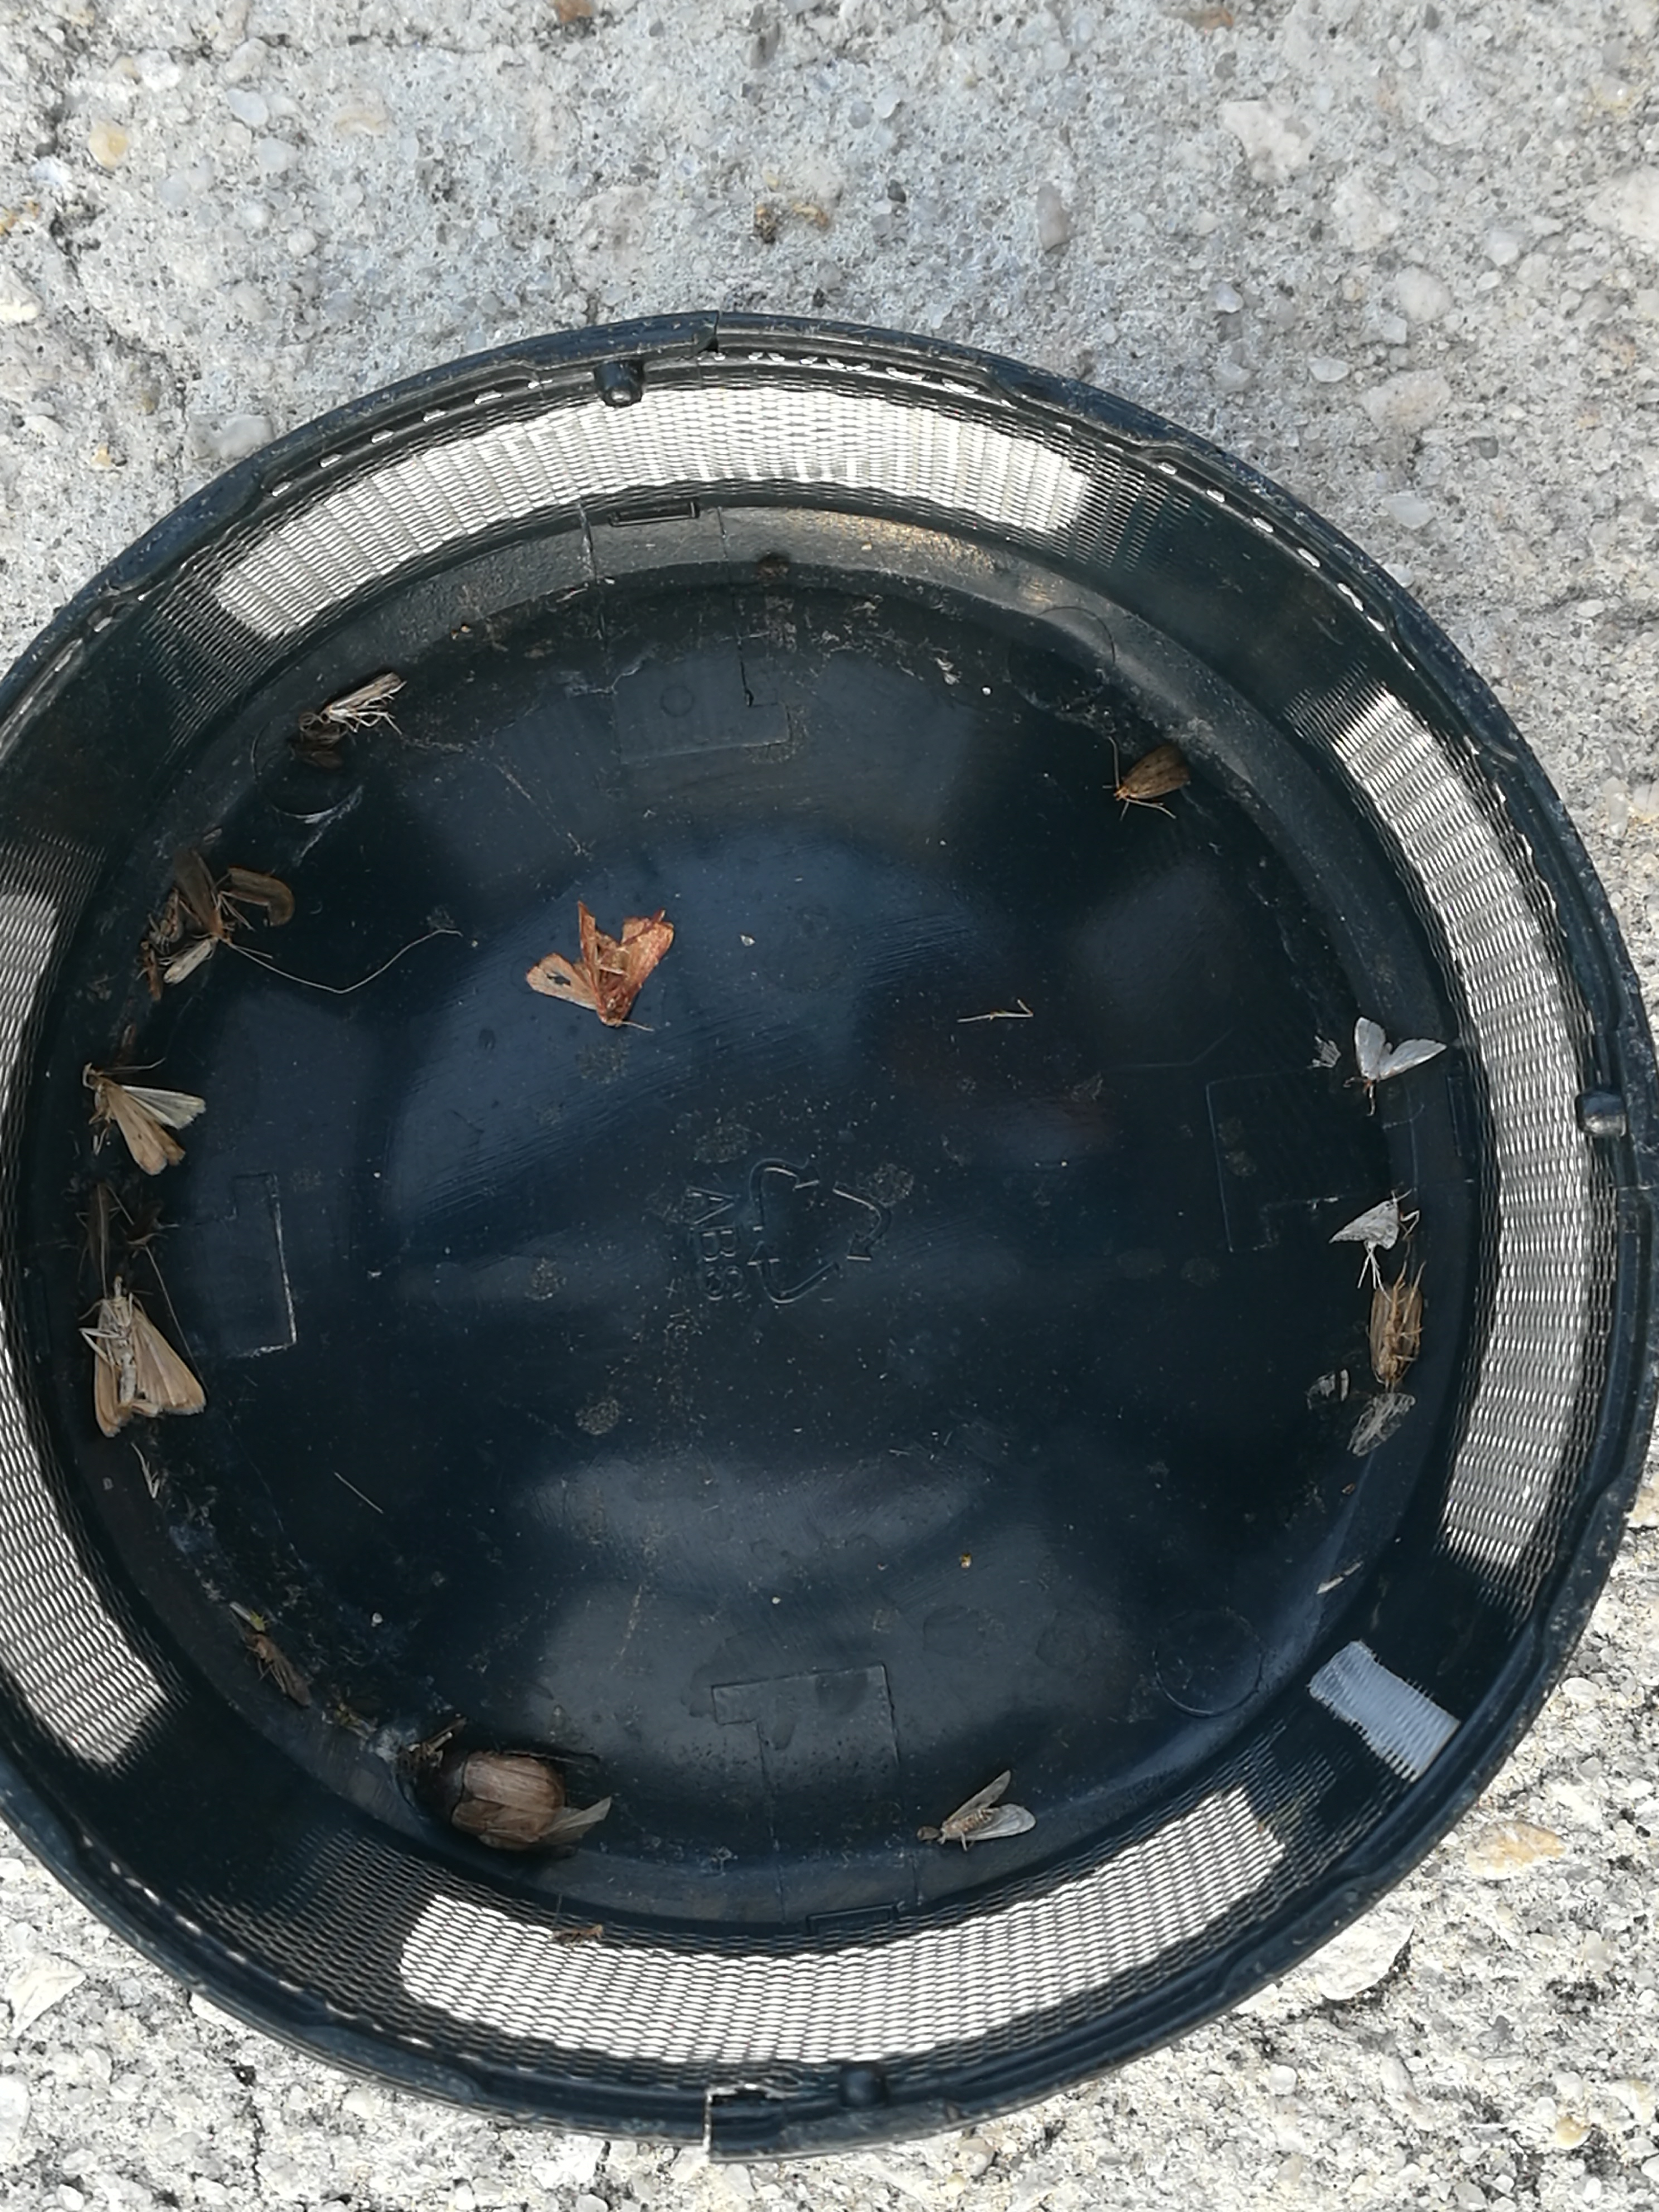beetle: (416, 1750, 563, 1850)
mosquito: (171, 852, 221, 939), (321, 672, 401, 725), (254, 1635, 310, 1705), (166, 939, 214, 982)
moth: (528, 902, 674, 1026), (94, 1291, 206, 1439), (98, 1076, 209, 1176), (938, 1775, 1033, 1839), (1354, 1024, 1445, 1082), (1370, 1285, 1420, 1383), (1115, 745, 1187, 803), (1338, 1197, 1399, 1244)
